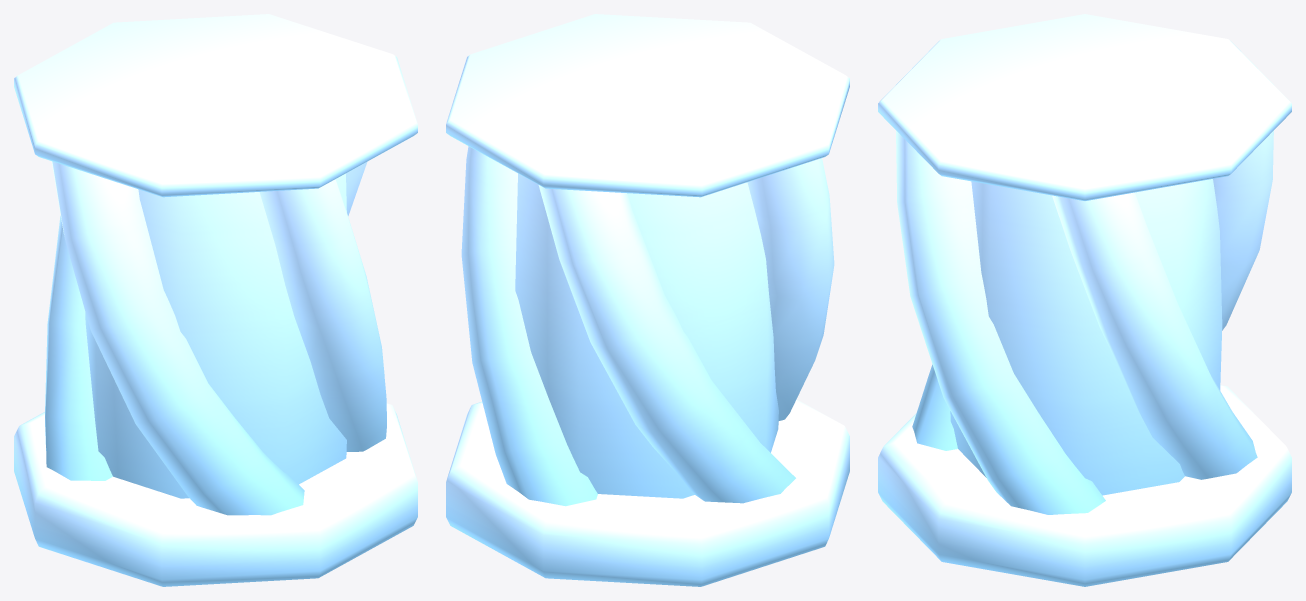
Rendered from steel_grip_029.glb.
3 views of the same model, side by side, from view 1: azimuth 30°, elevation 25°; view 2: azimuth 150°, elevation 25°; view 3: azimuth 270°, elevation 25° (orthographic).
Visible parts, largest first — view 1: steel_grip_029; view 2: steel_grip_029; view 3: steel_grip_029.
Boxes of the visible parts, x1,y1,x2,y2 form: steel_grip_029: [14, 14, 417, 586]; steel_grip_029: [446, 14, 849, 586]; steel_grip_029: [878, 14, 1291, 586].
Bounding box in the file's own units: 2.89 × 3.13 × 2.89.
Materials: 1 (1 with a texture image).
